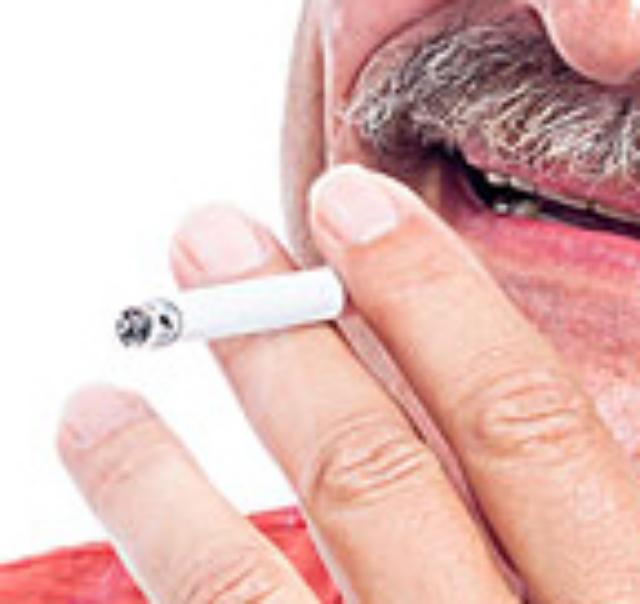Cigarette: (116, 246, 414, 352)
